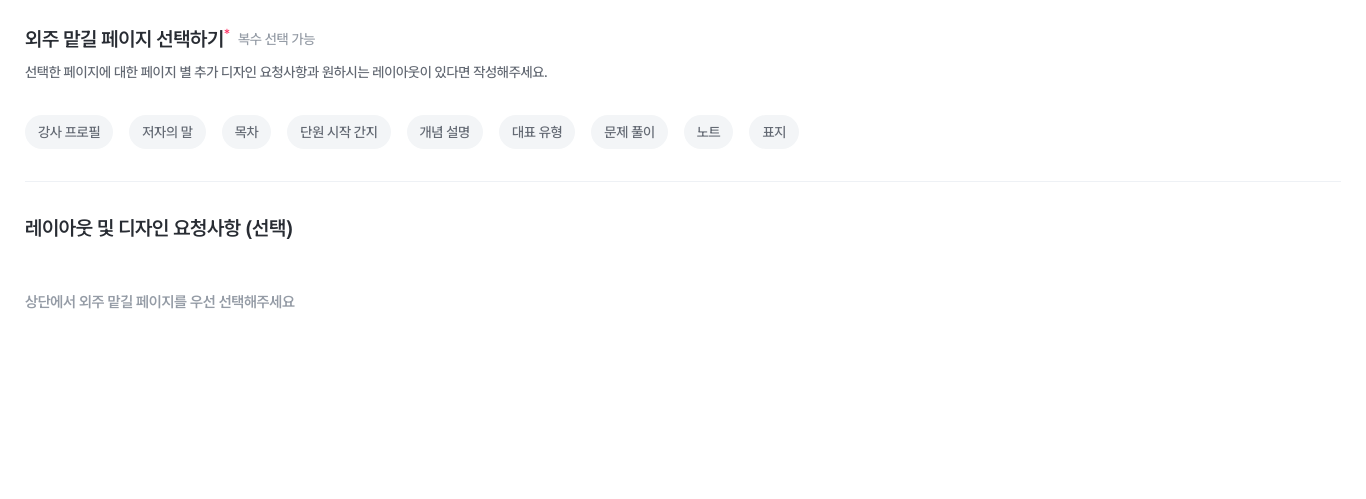
Test: NecessaryPageChooseSection › 페이지를 클릭하면 선택되고, 스토어의 selectedPages에 반영된다
This screenshot has width=1366, height=499.
Click the button "강사 프로필" at coordinates (69, 132), box [25,115,113,149]
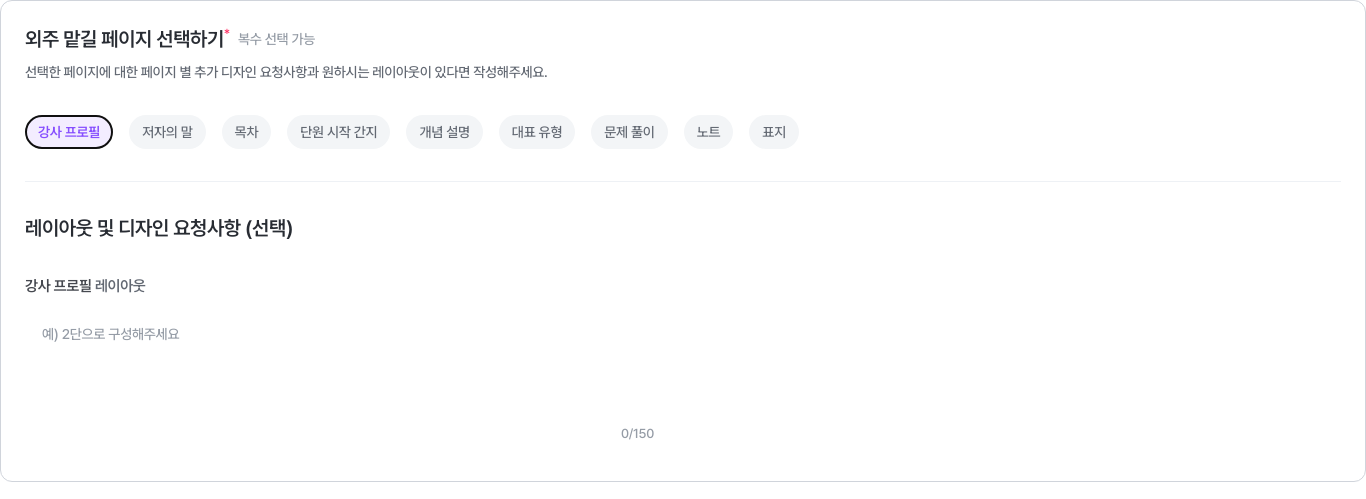
Expected: the text "상단에서 외주 맡길 페이지를 우선 선택해주세요" is gone
